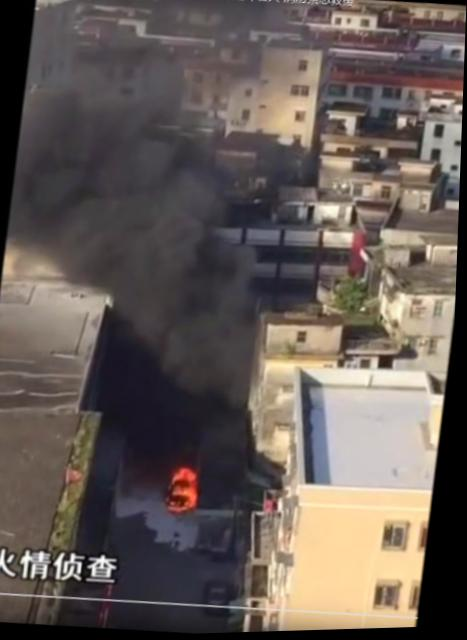fire: (170, 465, 201, 517)
